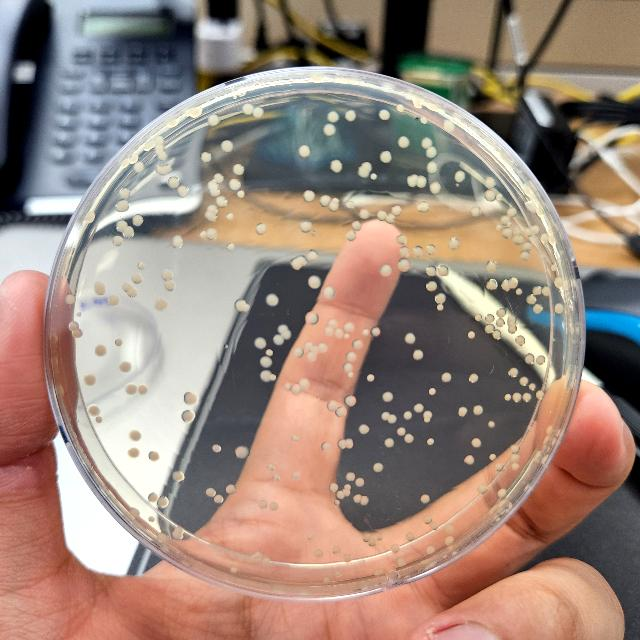colony: (154, 297, 170, 311), (397, 258, 411, 272), (181, 410, 195, 424), (94, 280, 106, 296), (190, 105, 203, 118), (330, 159, 342, 173), (299, 144, 311, 158), (228, 178, 242, 190), (266, 294, 280, 306), (486, 259, 498, 273), (184, 392, 198, 404), (122, 226, 136, 238), (115, 201, 129, 213), (380, 150, 392, 163), (431, 181, 442, 195), (381, 264, 392, 278), (304, 190, 316, 202), (426, 146, 438, 158), (300, 220, 312, 232), (255, 222, 267, 234), (324, 124, 336, 136), (484, 189, 496, 201), (484, 176, 496, 188), (208, 114, 220, 126), (221, 140, 233, 152), (307, 250, 319, 262), (206, 228, 218, 240), (309, 276, 321, 288), (306, 312, 318, 324), (434, 292, 446, 304), (486, 278, 498, 290), (177, 186, 189, 198), (168, 177, 180, 189), (254, 337, 266, 349), (162, 268, 174, 280), (236, 446, 248, 458), (524, 201, 536, 213), (129, 430, 141, 442), (157, 496, 169, 508), (108, 294, 120, 306), (85, 374, 97, 386), (132, 214, 144, 226), (116, 221, 128, 233), (133, 161, 145, 173), (448, 237, 459, 250), (444, 119, 454, 133), (173, 234, 183, 248), (522, 183, 532, 197), (310, 72, 324, 82), (321, 196, 332, 208), (398, 136, 409, 148), (242, 104, 254, 115), (232, 163, 244, 174), (172, 471, 184, 482), (95, 344, 106, 356), (120, 361, 132, 372), (85, 211, 96, 223), (408, 175, 418, 188), (205, 211, 218, 221), (416, 176, 426, 188), (427, 162, 437, 174), (422, 137, 432, 149), (455, 170, 465, 182), (392, 204, 402, 216), (346, 110, 356, 122), (328, 111, 338, 123), (254, 106, 264, 118), (359, 166, 369, 178), (217, 196, 227, 208), (438, 265, 448, 277), (413, 246, 423, 258), (400, 246, 410, 258), (324, 286, 334, 298), (344, 322, 356, 332), (502, 228, 512, 240), (520, 250, 530, 262), (290, 258, 300, 270), (235, 299, 245, 311), (208, 180, 220, 190), (532, 304, 544, 314), (280, 330, 292, 340), (300, 379, 310, 391), (261, 370, 271, 382), (260, 357, 272, 367), (344, 396, 356, 406), (164, 280, 176, 290), (148, 451, 160, 461), (128, 447, 140, 457), (88, 406, 100, 416), (125, 384, 137, 394), (138, 384, 148, 396), (132, 272, 142, 284), (122, 282, 134, 292), (126, 288, 138, 298), (66, 294, 76, 306), (157, 532, 169, 542), (426, 102, 438, 112), (405, 332, 415, 343), (427, 281, 438, 291), (382, 392, 393, 402), (457, 407, 467, 418), (336, 407, 346, 418), (372, 463, 383, 473), (226, 484, 237, 494), (206, 488, 217, 498), (129, 507, 139, 518), (162, 163, 172, 174), (502, 279, 511, 291), (68, 322, 80, 331), (413, 95, 421, 108), (418, 202, 428, 212), (385, 213, 395, 223), (377, 211, 387, 221), (352, 221, 362, 231), (346, 231, 356, 241), (380, 110, 390, 120), (202, 152, 212, 162), (470, 207, 480, 217), (426, 266, 436, 276), (278, 324, 288, 334), (371, 327, 381, 337), (413, 349, 423, 359), (507, 207, 517, 217), (500, 215, 510, 225), (512, 226, 522, 236), (484, 324, 494, 334), (526, 294, 536, 304), (508, 278, 518, 288), (297, 256, 307, 266), (542, 286, 552, 296), (492, 329, 502, 339), (515, 336, 525, 346), (441, 372, 451, 382), (324, 326, 334, 336), (274, 335, 284, 345), (387, 414, 397, 424), (292, 384, 302, 394), (294, 348, 304, 358), (307, 352, 317, 362), (346, 352, 356, 362), (471, 438, 481, 448), (414, 404, 424, 414), (328, 400, 338, 410), (359, 424, 369, 434), (384, 438, 394, 448), (404, 433, 414, 443), (508, 367, 518, 377), (524, 354, 534, 364), (535, 355, 545, 365), (512, 393, 522, 403), (522, 393, 532, 403), (420, 494, 430, 504), (214, 494, 224, 504), (444, 535, 454, 545), (390, 543, 400, 553), (477, 484, 487, 494), (510, 444, 520, 454), (396, 557, 406, 567), (148, 492, 158, 502), (72, 329, 82, 339), (120, 188, 130, 198), (130, 154, 140, 164), (121, 158, 131, 168), (252, 551, 262, 561), (171, 531, 183, 539), (329, 201, 338, 211), (398, 235, 407, 245), (352, 339, 362, 348), (473, 405, 482, 415), (212, 443, 222, 452), (498, 488, 507, 498), (113, 237, 123, 246), (335, 328, 343, 339), (329, 483, 338, 492), (359, 210, 369, 218), (362, 162, 372, 170), (214, 174, 224, 182), (426, 245, 434, 255), (513, 236, 523, 244), (522, 242, 532, 250), (485, 314, 495, 322), (496, 308, 506, 316), (207, 205, 217, 213), (532, 286, 542, 294), (496, 318, 504, 328), (508, 326, 518, 334), (328, 320, 338, 328), (540, 234, 548, 244), (345, 438, 353, 448), (322, 442, 330, 452), (319, 343, 327, 353), (464, 456, 474, 464), (396, 427, 406, 435), (536, 390, 544, 400), (345, 473, 355, 481), (356, 478, 364, 488), (336, 490, 344, 500), (353, 494, 361, 504), (361, 495, 369, 505), (258, 501, 268, 509), (315, 548, 323, 558), (332, 546, 342, 554), (445, 524, 455, 532), (426, 546, 436, 554), (406, 532, 414, 542), (344, 554, 352, 564), (494, 463, 504, 471), (510, 455, 520, 463), (262, 557, 270, 567), (374, 568, 384, 576), (546, 425, 554, 435), (541, 455, 549, 465), (555, 303, 563, 313), (554, 278, 562, 288), (174, 526, 184, 534), (158, 152, 168, 160), (156, 136, 166, 144), (156, 145, 164, 155), (168, 120, 178, 128), (469, 374, 478, 382), (338, 439, 346, 448), (343, 363, 352, 371), (520, 378, 528, 387), (156, 164, 162, 176), (210, 190, 220, 197), (489, 452, 496, 462), (370, 172, 378, 180), (421, 116, 429, 124), (397, 104, 405, 112), (474, 313, 482, 321), (468, 331, 476, 339), (428, 388, 436, 396), (367, 374, 375, 382), (524, 228, 532, 236), (532, 226, 540, 234), (381, 412, 389, 420), (305, 342, 313, 350), (424, 410, 432, 418), (404, 412, 412, 420), (528, 383, 536, 391), (292, 472, 300, 480), (270, 502, 278, 510), (424, 515, 432, 523), (430, 522, 438, 530), (368, 538, 376, 546), (511, 463, 519, 471), (230, 566, 238, 574), (536, 208, 544, 216), (137, 261, 145, 269), (534, 451, 540, 461), (549, 234, 555, 244), (524, 482, 530, 492), (238, 190, 245, 198), (200, 230, 207, 238), (266, 349, 274, 356), (504, 394, 512, 401), (344, 489, 351, 497), (115, 339, 123, 346), (228, 243, 235, 250), (346, 202, 354, 208), (332, 198, 340, 204), (226, 213, 234, 219), (362, 328, 368, 336), (437, 304, 443, 312), (244, 304, 250, 312), (285, 383, 291, 391), (270, 374, 276, 382), (312, 346, 318, 354), (488, 420, 494, 428), (428, 438, 434, 446), (268, 462, 274, 470), (272, 475, 280, 481), (363, 535, 371, 541), (323, 578, 331, 584), (543, 435, 549, 443), (551, 264, 557, 272), (96, 416, 102, 424), (150, 140, 156, 148), (497, 193, 503, 200), (564, 280, 568, 290), (310, 230, 316, 236), (506, 222, 512, 228), (496, 224, 502, 230), (516, 288, 522, 294), (347, 371, 353, 377), (344, 484, 350, 490), (334, 500, 340, 506), (308, 534, 314, 540), (376, 535, 382, 541), (149, 516, 155, 522), (76, 312, 82, 318), (144, 144, 150, 150), (552, 438, 556, 447), (452, 550, 458, 556), (292, 436, 300, 440), (420, 98, 424, 105), (344, 334, 350, 338), (424, 418, 430, 422), (336, 572, 340, 578), (442, 555, 448, 559), (456, 184, 458, 186)
